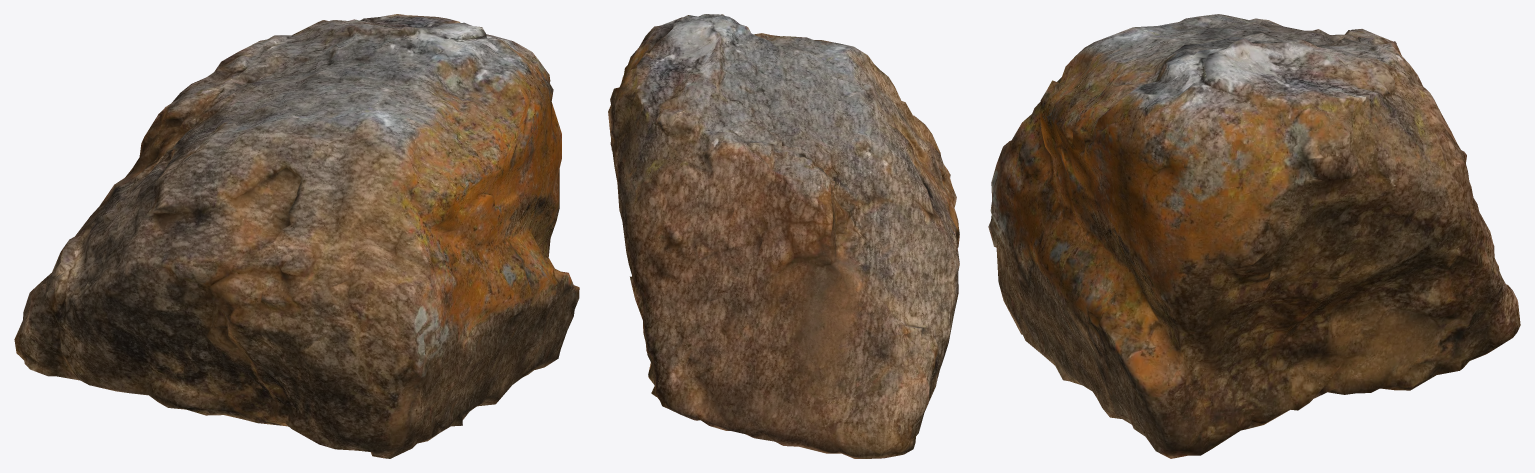
Rendered from namaqualand_boulder_04.glb.
3 views of the same model, side by side, from view 1: azimuth 30°, elevation 25°; view 2: azimuth 150°, elevation 25°; view 3: azimuth 270°, elevation 25° (orthographic). The views are drawn at different scales.
Visible parts, largest first — view 1: boulder_04; view 2: boulder_04; view 3: boulder_04.
Part boxes in pixels (bbox=[...]): boulder_04: bbox=[14, 14, 579, 458]; boulder_04: bbox=[608, 14, 959, 458]; boulder_04: bbox=[988, 14, 1520, 458].
Bounding box in the file's own units: 2.52 × 1.9 × 2.49.
Materials: 1 (1 with a texture image).
